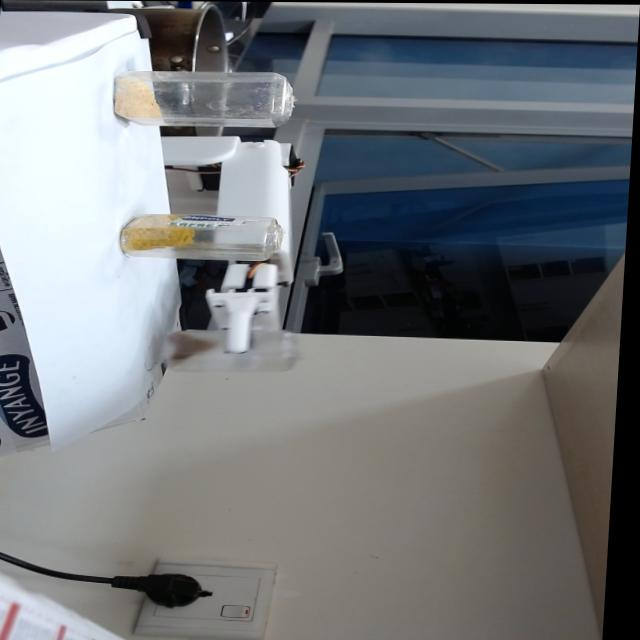curry_powder: (117, 214, 199, 253)
garlic_powder: (112, 79, 158, 119)
maggie_open: (161, 334, 219, 366)
